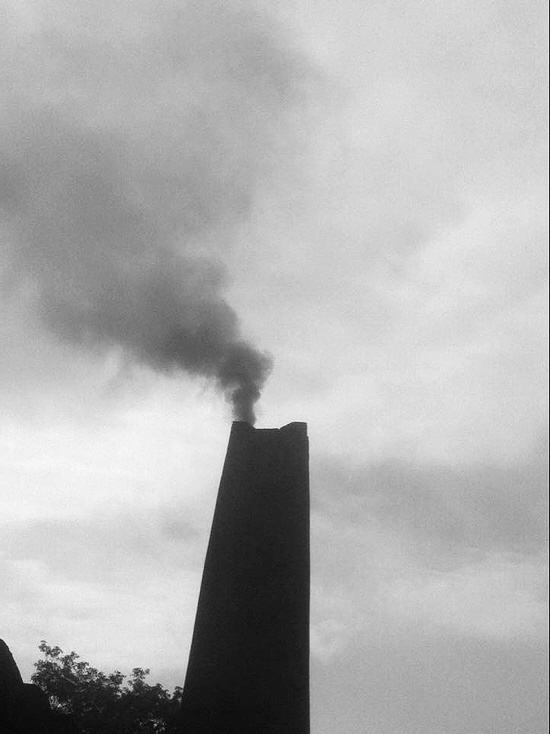dust: (83, 240, 279, 448)
